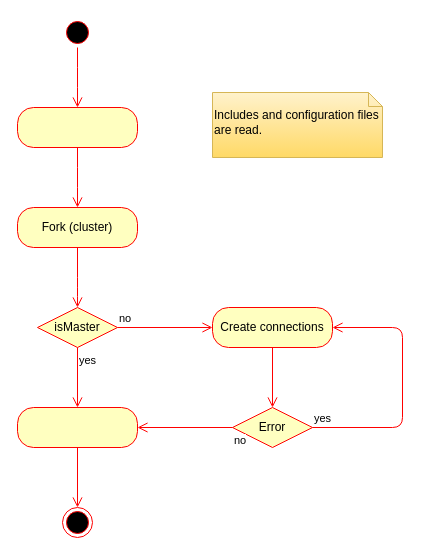
Image size: 430x555. Some labels were removed from this diagram. Each missing label, with the box of its shape:
Announce connections: (16, 406, 138, 448)
Initialize: (16, 106, 138, 148)
